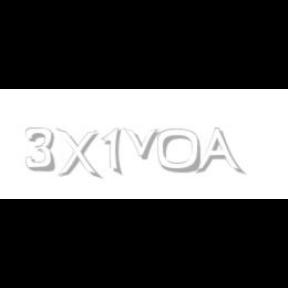1: (101, 128, 123, 176)
3: (25, 128, 56, 172)
A: (194, 128, 242, 176)
O: (156, 128, 202, 174)
X: (56, 128, 100, 180)
v: (123, 128, 163, 160)
